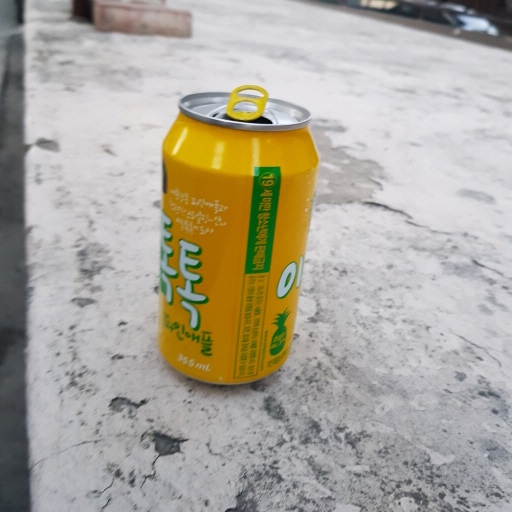Metal_0: (150, 81, 321, 384)
